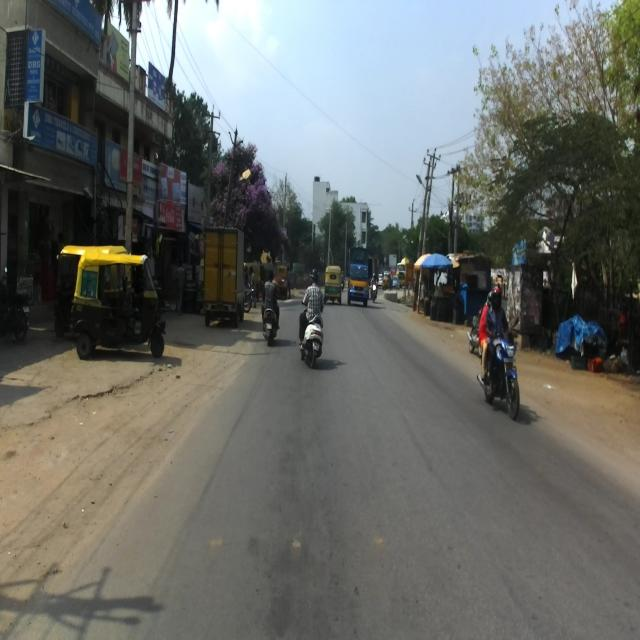autorickshaw: (70, 253, 166, 359), (54, 243, 128, 339)
motorcycle_TVS: (476, 314, 520, 420), (1, 267, 30, 344)
scooter: (294, 290, 326, 375), (261, 293, 280, 350)
truck: (201, 220, 246, 334), (345, 245, 371, 309)
